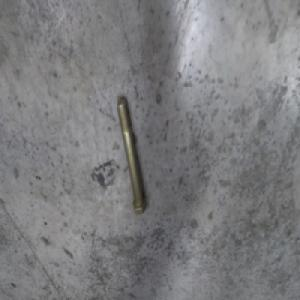Bolt: (118, 94, 147, 212)
